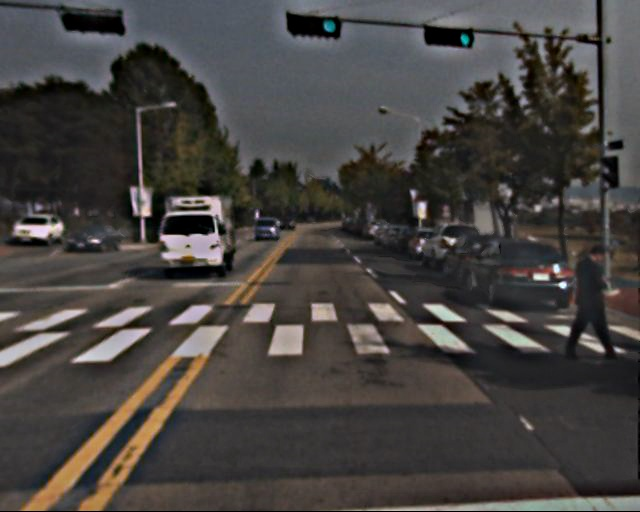person: (568, 243, 619, 366)
